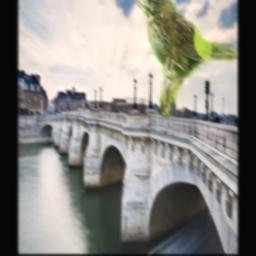Sparrow: (138, 0, 238, 119)
